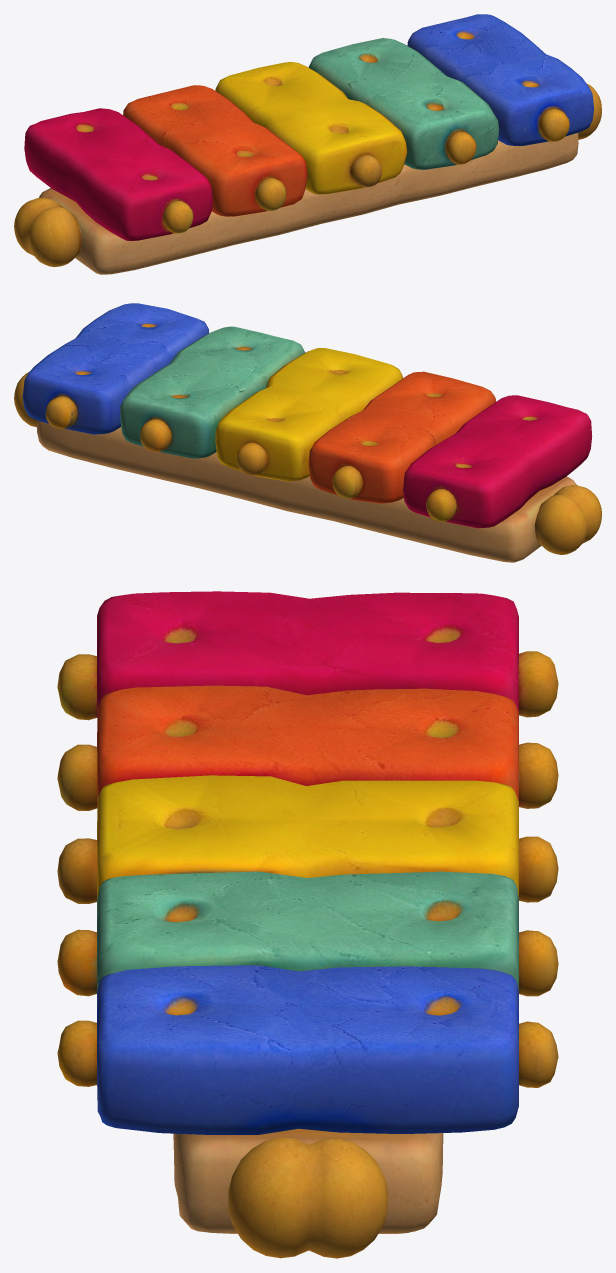
Rendered from dream-xylophone.glb.
3 views of the same model, one above another, from view 1: azimuth 30°, elevation 25°; view 2: azimuth 150°, elevation 25°; view 3: azimuth 270°, elevation 25° (orthographic). The views are drawn at different scales.
Visible parts, largest first — view 1: dream-xylophone; view 2: dream-xylophone; view 3: dream-xylophone.
Part boxes in pixels (<box>): dream-xylophone: <box>14,14,601,274</box>; dream-xylophone: <box>14,303,601,562</box>; dream-xylophone: <box>57,591,558,1258</box>.
Bounding box in the file's own units: 0.9995 × 0.1636 × 0.3823.
Materials: 1 (1 with a texture image).
